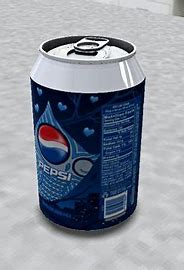Pepsi: (28, 38, 147, 232)
